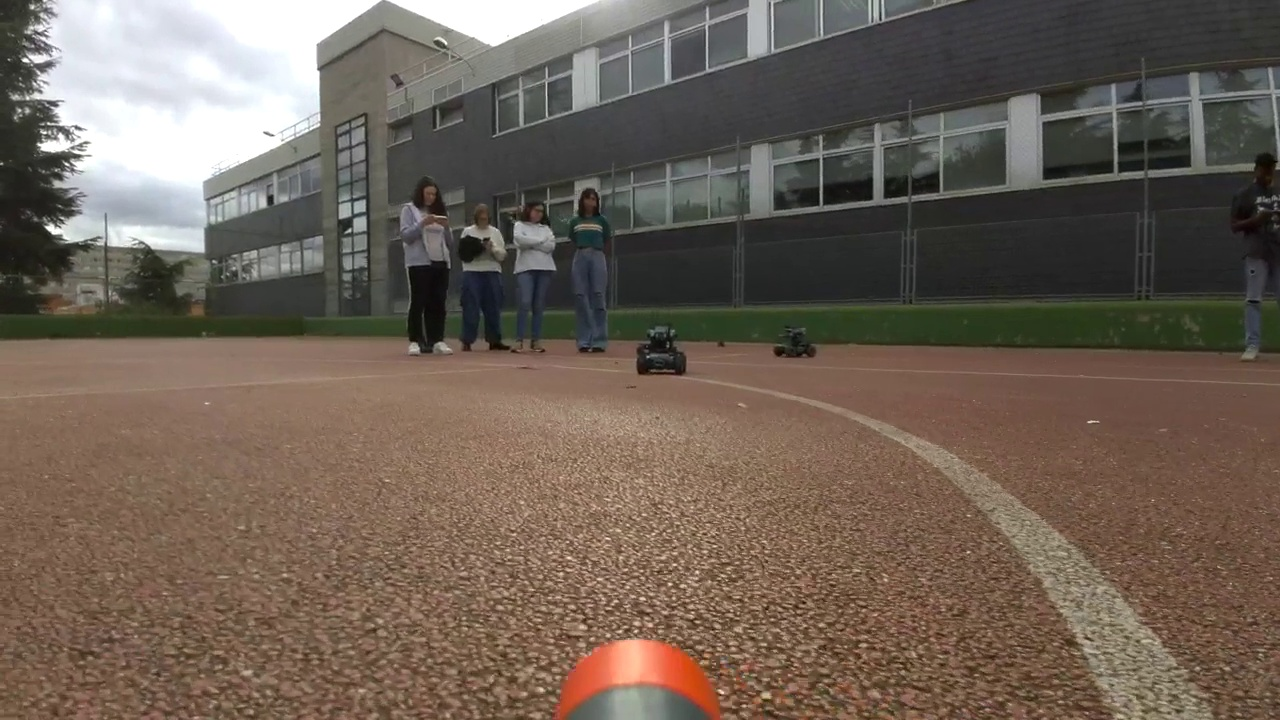robot: (637, 323, 687, 375), (776, 326, 817, 358)
